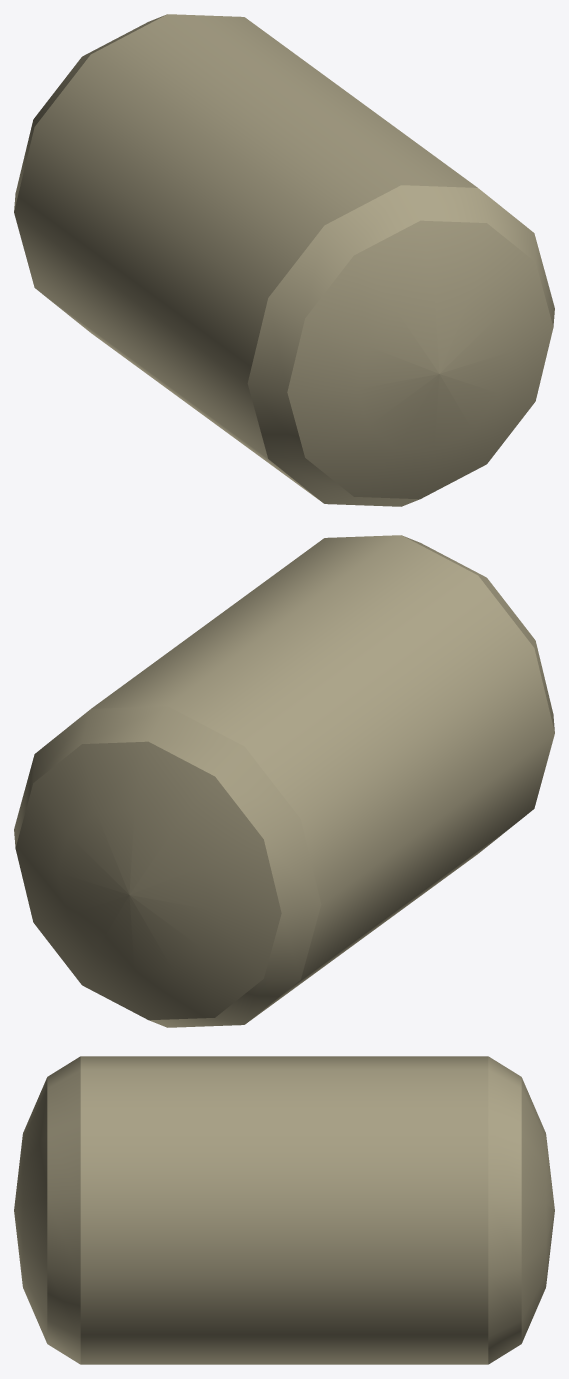
File: kc1000_insulation.obj
The picture shows the model from 3 angles, top to bottom: view 1: azimuth 30°, elevation 25°; view 2: azimuth 150°, elevation 25°; view 3: azimuth 270°, elevation 25°; orthographic projection. The views are drawn at different scales.
Parts seen in each view (by area): view 1: kc1000_insulation; view 2: kc1000_insulation; view 3: kc1000_insulation.
Part boxes in pixels (<box>): kc1000_insulation: <box>14,14,554,506</box>; kc1000_insulation: <box>14,535,554,1027</box>; kc1000_insulation: <box>14,1056,554,1364</box>.
Bounding box in the file's own units: 7.9 × 7.9 × 13.8.
